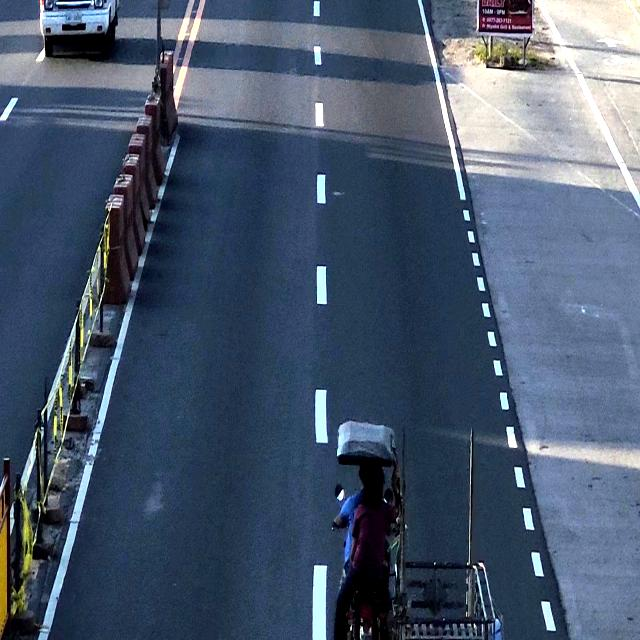Tricycle: (330, 409, 510, 640)
